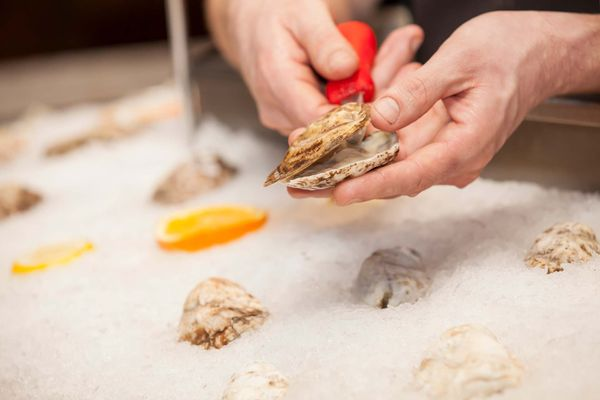soup: (262, 96, 386, 188)
taco: (153, 202, 269, 253)
